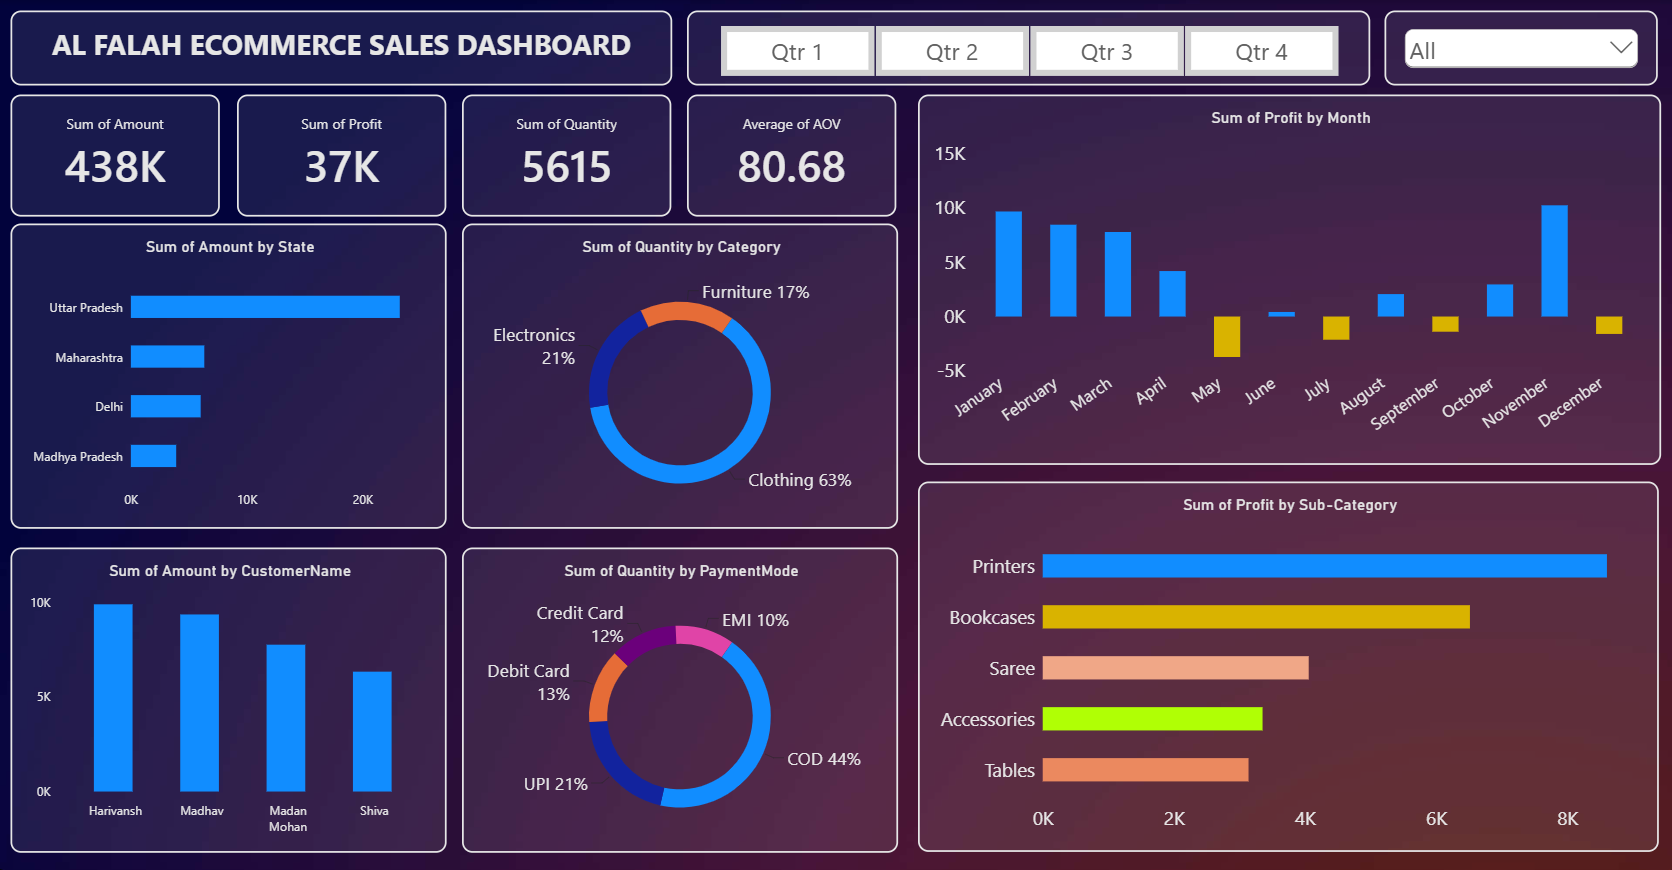

Layout of this report page (visuals, bound fields, positions):
{"tool":"powerbi","page":{"name":"Page 1","canvas":[1920,1002],"ordinal":0},"visuals":[{"type":"textbox","box":[11.4,11.4,758.6,86.3],"z":0},{"type":"columnChart","fields":{"Category":["Orders.Order Date.Variation.Date Hierarchy.Month"],"Y":["Sum(Details.Profit)"]},"box":[1051.7,107.7,851.7,424.7],"z":1000},{"type":"clusteredBarChart","fields":{"Category":["Details.Sub-Category"],"Y":["Sum(Details.Profit)"]},"box":[1051.6,551.9,849.5,424.7],"z":2000},{"type":"donutChart","fields":{"Category":["Details.Category"],"Y":["Sum(Details.Quantity)"]},"box":[529.2,256.7,499.7,349.8],"z":3000},{"type":"donutChart","fields":{"Category":["Details.PaymentMode"],"Y":["Sum(Details.Quantity)"]},"box":[529.2,626.9,499.7,349.8],"z":4000},{"type":"columnChart","fields":{"Category":["Orders.CustomerName"],"Y":["Sum(Details.Amount)"]},"box":[11.4,626.9,499.7,349.8],"z":5000},{"type":"clusteredBarChart","fields":{"Category":["Orders.State"],"Y":["Sum(Details.Amount)"]},"box":[11.4,256.7,500,350],"z":6000},{"type":"cardVisual","fields":{"Data":["Sum(Details.Amount)"]},"box":[11.4,108,240,140],"z":7000},{"type":"cardVisual","fields":{"Data":["Sum(Details.Profit)"]},"box":[271,108,240,140],"z":8000},{"type":"cardVisual","fields":{"Data":["Sum(Details.Quantity)"]},"box":[529.2,108,240,140],"z":9000},{"type":"cardVisual","fields":{"Data":["Avg(Details.AOV)"]},"box":[788.1,108,240,140],"z":10000},{"type":"slicer","fields":{"Values":["Orders.Order Date.Variation.Date Hierarchy.Quarter"]},"box":[788.1,11.4,783.6,86.3],"z":11000},{"type":"slicer","fields":{"Values":["Orders.State"]},"box":[1587.6,11.4,313.4,86.3],"z":11001}]}

Visuals, with their boxes in screenshot pixels (x1, y1, x2, y2), scaled from the page's 1920x1002 canvas onto the 1672x870 screenshot:
textbox: [10, 10, 671, 85]
columnChart - Orders.Order Date.Variation.Date Hierarchy.Month x Sum(Details.Profit): [916, 94, 1658, 462]
clusteredBarChart - Details.Sub-Category x Sum(Details.Profit): [916, 479, 1656, 848]
donutChart - Details.Category x Sum(Details.Quantity): [461, 223, 896, 527]
donutChart - Details.PaymentMode x Sum(Details.Quantity): [461, 544, 896, 848]
columnChart - Orders.CustomerName x Sum(Details.Amount): [10, 544, 445, 848]
clusteredBarChart - Orders.State x Sum(Details.Amount): [10, 223, 445, 527]
cardVisual - Sum(Details.Amount): [10, 94, 219, 215]
cardVisual - Sum(Details.Profit): [236, 94, 445, 215]
cardVisual - Sum(Details.Quantity): [461, 94, 670, 215]
cardVisual - Avg(Details.AOV): [686, 94, 895, 215]
slicer - Orders.Order Date.Variation.Date Hierarchy.Quarter: [686, 10, 1369, 85]
slicer - Orders.State: [1383, 10, 1655, 85]
